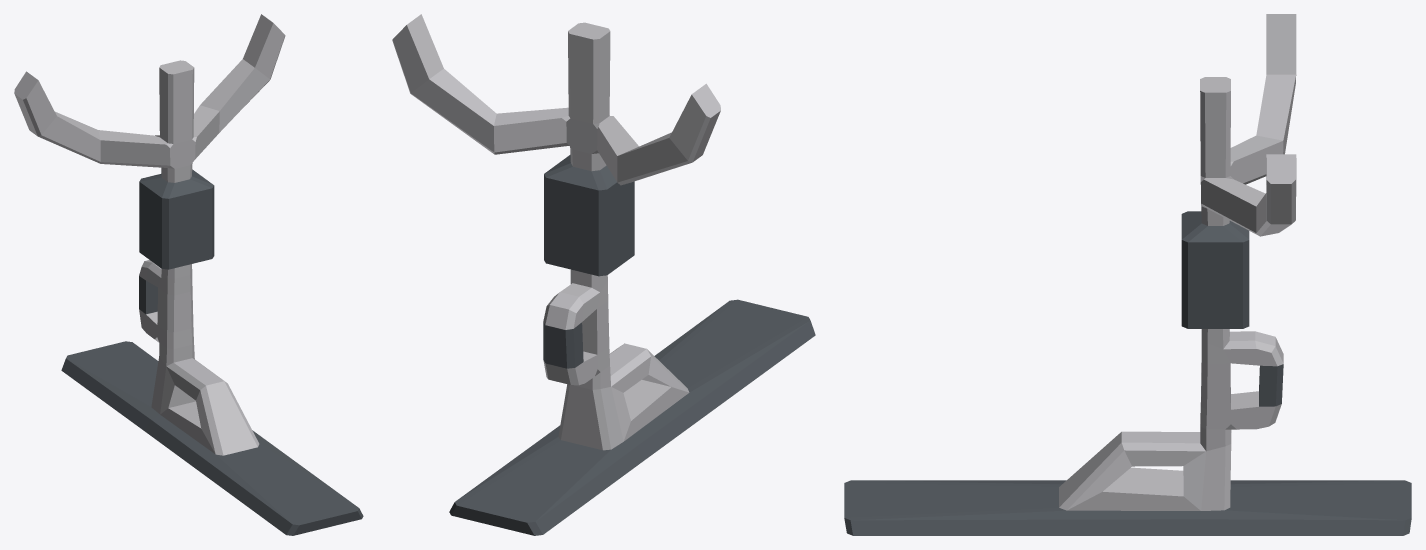
File: Dropship_05_Front_Lander.fbx
3 renders of one model, left to right at view 1: azimuth 30°, elevation 25°; view 2: azimuth 150°, elevation 25°; view 3: azimuth 270°, elevation 25°, orthographic. The views are drawn at different scales.
Visible parts, largest first — view 1: Dropship_05_Front_Lander; view 2: Dropship_05_Front_Lander; view 3: Dropship_05_Front_Lander.
Part boxes in pixels (box(x1,y1,x2,y2)): Dropship_05_Front_Lander: box(14, 14, 363, 535); Dropship_05_Front_Lander: box(392, 14, 815, 535); Dropship_05_Front_Lander: box(844, 14, 1411, 535).
Size of the model in its own units: 183 by 234 by 281.
1 material, 1 textured.
